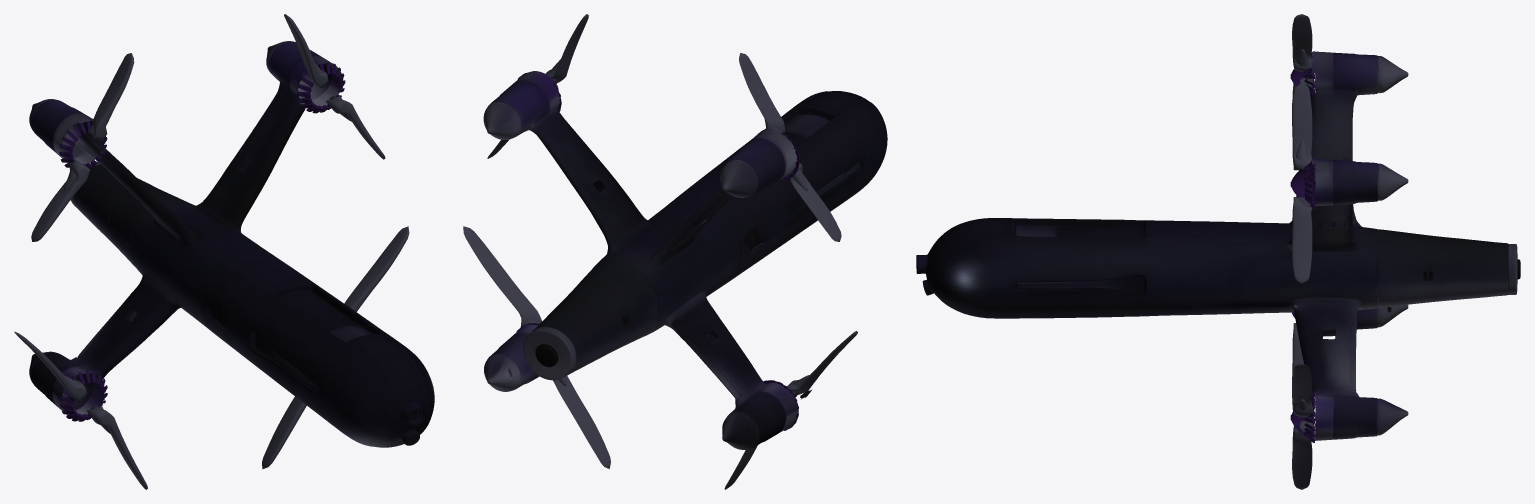
The model's file is Aeglos_v3-rotors (2).glb.
3 renders of one model, left to right at view 1: azimuth 30°, elevation 25°; view 2: azimuth 150°, elevation 25°; view 3: azimuth 270°, elevation 25°, orthographic. The views are drawn at different scales.
Parts seen in each view (by area): view 1: AeglosBody, Rotor_B, Rotor_C, Rotor_D, Rotor_A; view 2: AeglosBody, Rotor_D, Rotor_B, Rotor_C, Rotor_A; view 3: AeglosBody, Rotor_A, Rotor_D, Rotor_B.
Boxes of the visible parts, bbox=[...] form: AeglosBody: bbox=[29, 41, 434, 447]; Rotor_B: bbox=[31, 53, 134, 241]; Rotor_C: bbox=[14, 331, 147, 489]; Rotor_D: bbox=[262, 226, 409, 469]; Rotor_A: bbox=[284, 14, 385, 159]; AeglosBody: bbox=[483, 71, 887, 449]; Rotor_D: bbox=[463, 226, 610, 468]; Rotor_B: bbox=[739, 53, 841, 241]; Rotor_C: bbox=[724, 331, 857, 489]; Rotor_A: bbox=[487, 14, 588, 158]; AeglosBody: bbox=[916, 51, 1520, 440]; Rotor_A: bbox=[1290, 82, 1314, 283]; Rotor_D: bbox=[1290, 363, 1314, 489]; Rotor_B: bbox=[1290, 14, 1314, 108].
Size of the model in its own units: 1.33 by 1.45 by 1.9.
Materials: 5 (1 with a texture image).
